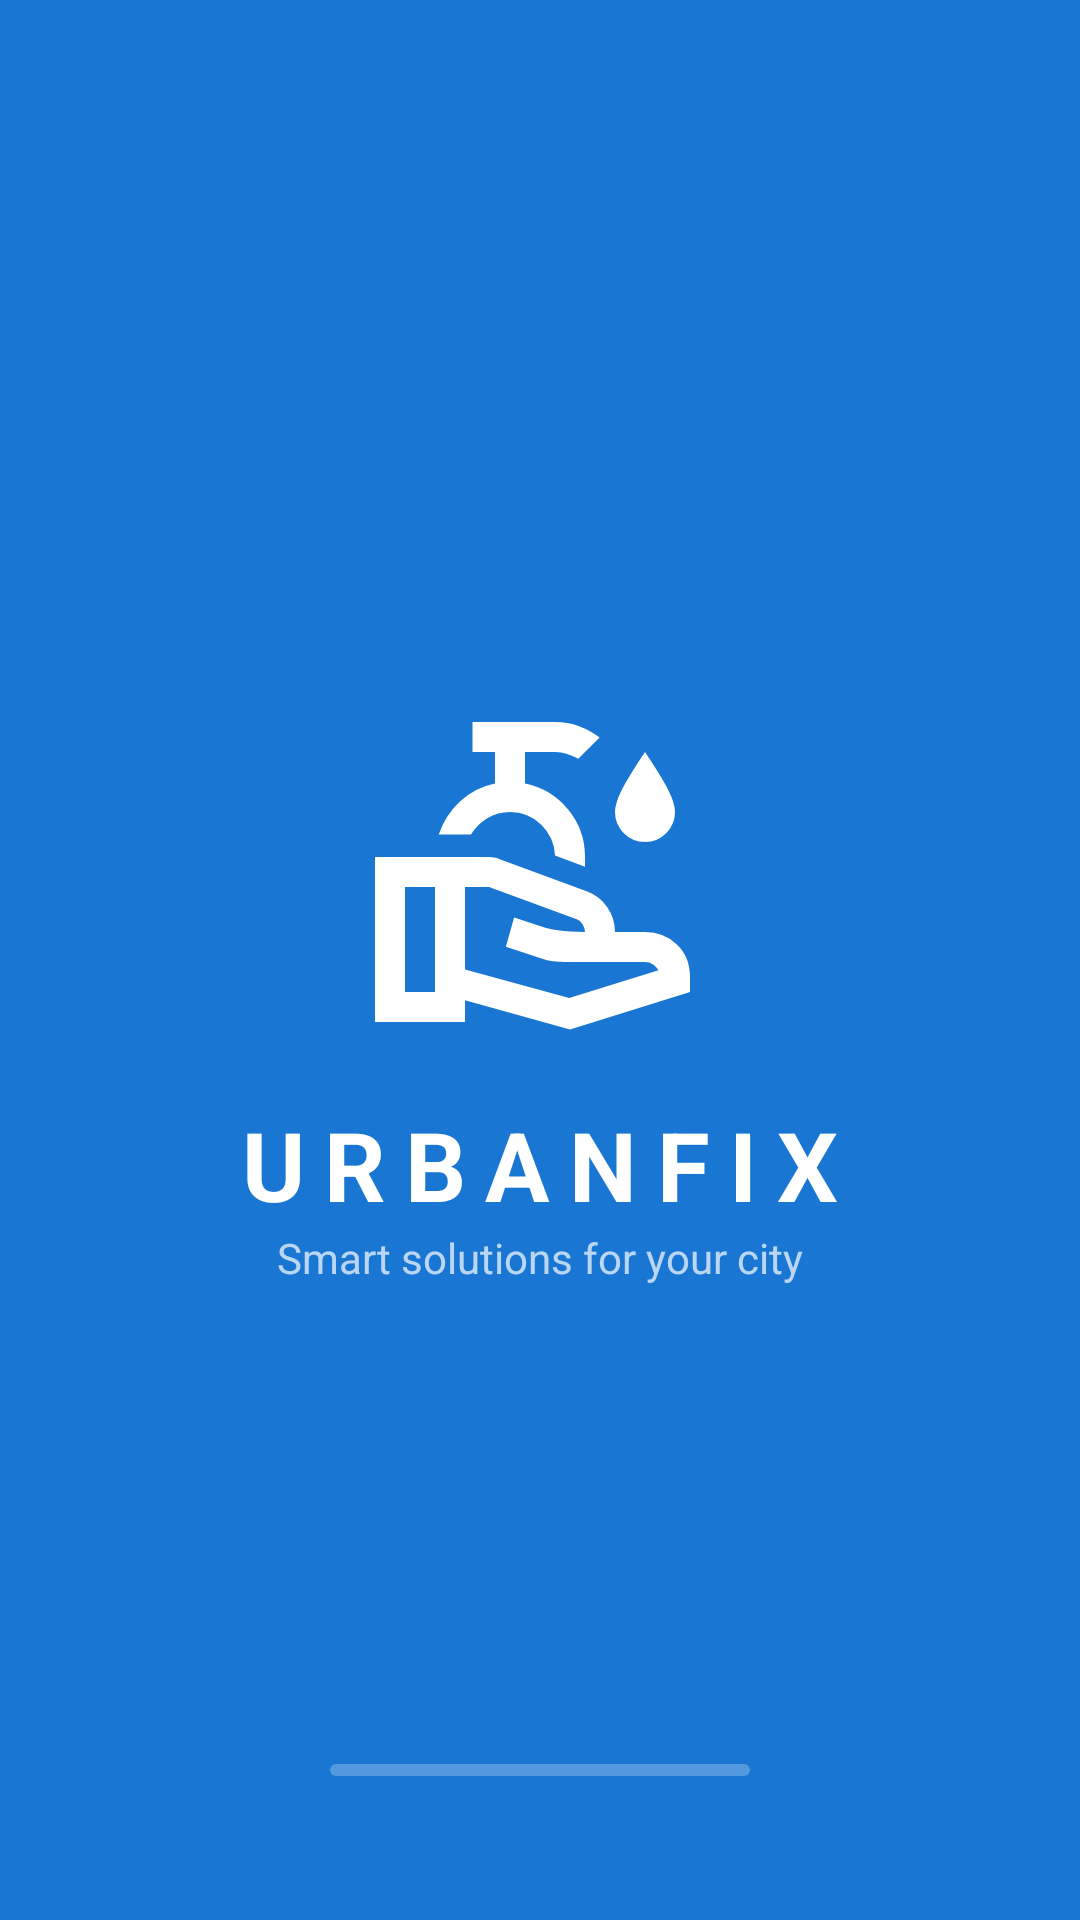

Named icons in this screenshot (1080×1920) and their bounding boxes, (x1, y1, x2, y2):
clean: (375, 722, 690, 1030)
